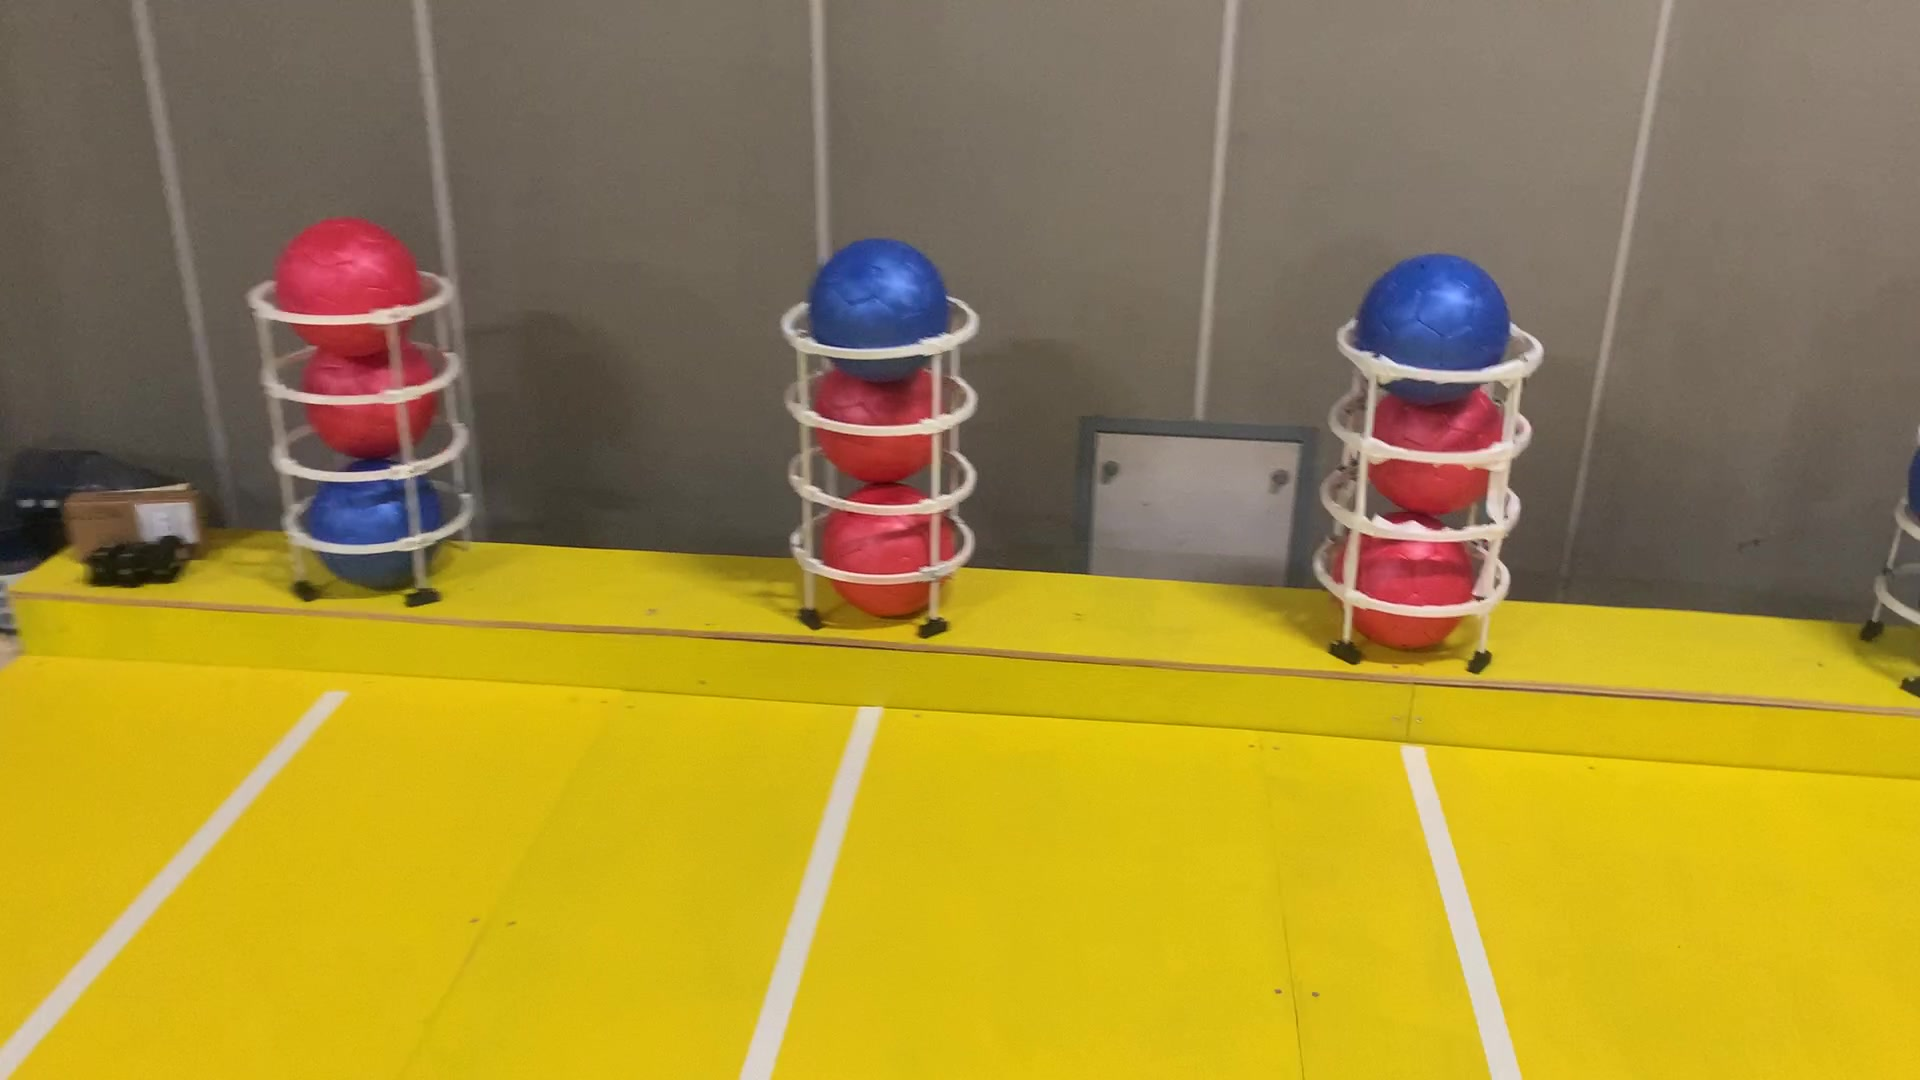blue: (1356, 252, 1519, 396), (807, 235, 953, 386), (307, 462, 459, 593), (1908, 439, 1916, 524)
red: (816, 476, 963, 625), (1336, 505, 1478, 653), (270, 214, 426, 345), (298, 323, 443, 464), (1365, 380, 1509, 517), (815, 352, 944, 483)
